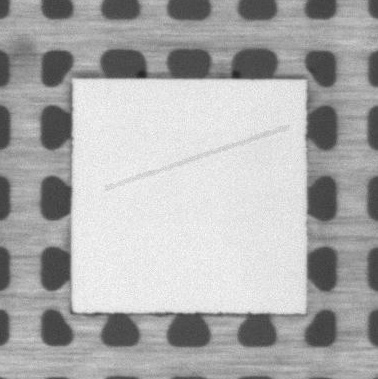DIE_CRACK: (106, 127, 287, 188)
